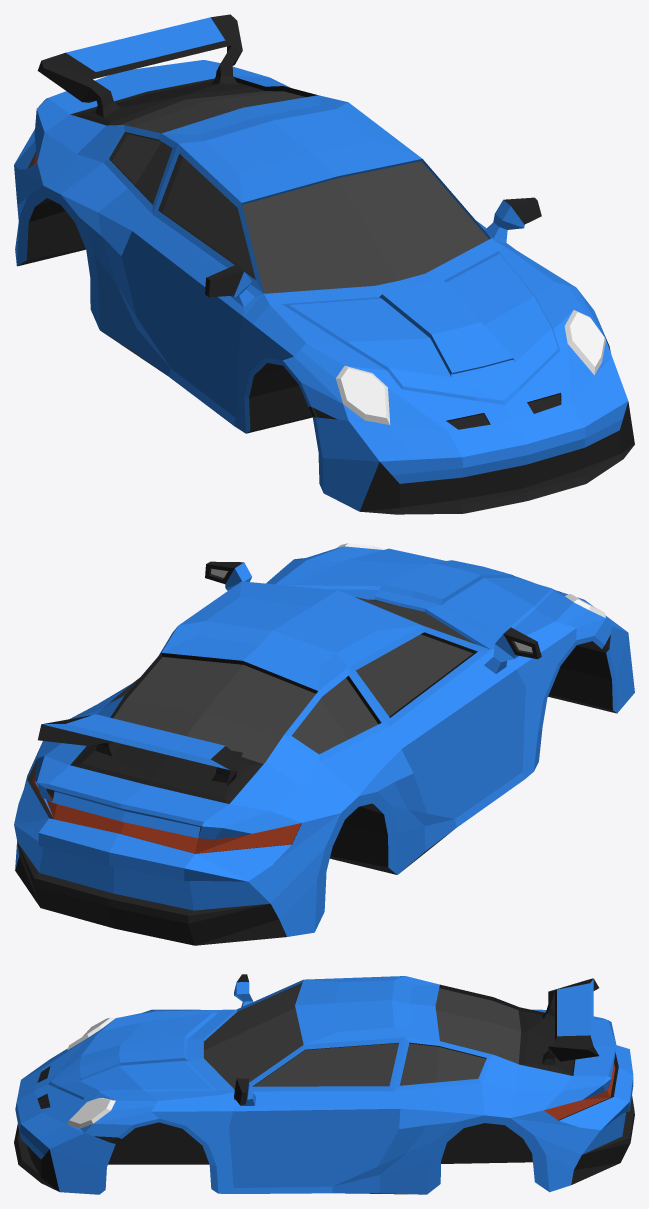
The model's file is porsche911gt3bodies.fbx.
3 views of the same model, one above another, from view 1: azimuth 30°, elevation 25°; view 2: azimuth 150°, elevation 25°; view 3: azimuth 270°, elevation 25° (orthographic). The views are drawn at different scales.
Parts seen in each view (by area): view 1: BlueBody; view 2: BlueBody; view 3: BlueBody.
Part boxes in pixels (x1,y1,x2,y2): BlueBody: [14, 14, 634, 514]; BlueBody: [14, 543, 634, 945]; BlueBody: [14, 974, 634, 1194].
Size of the model in its own units: 2.12 by 4.64 by 1.18.
